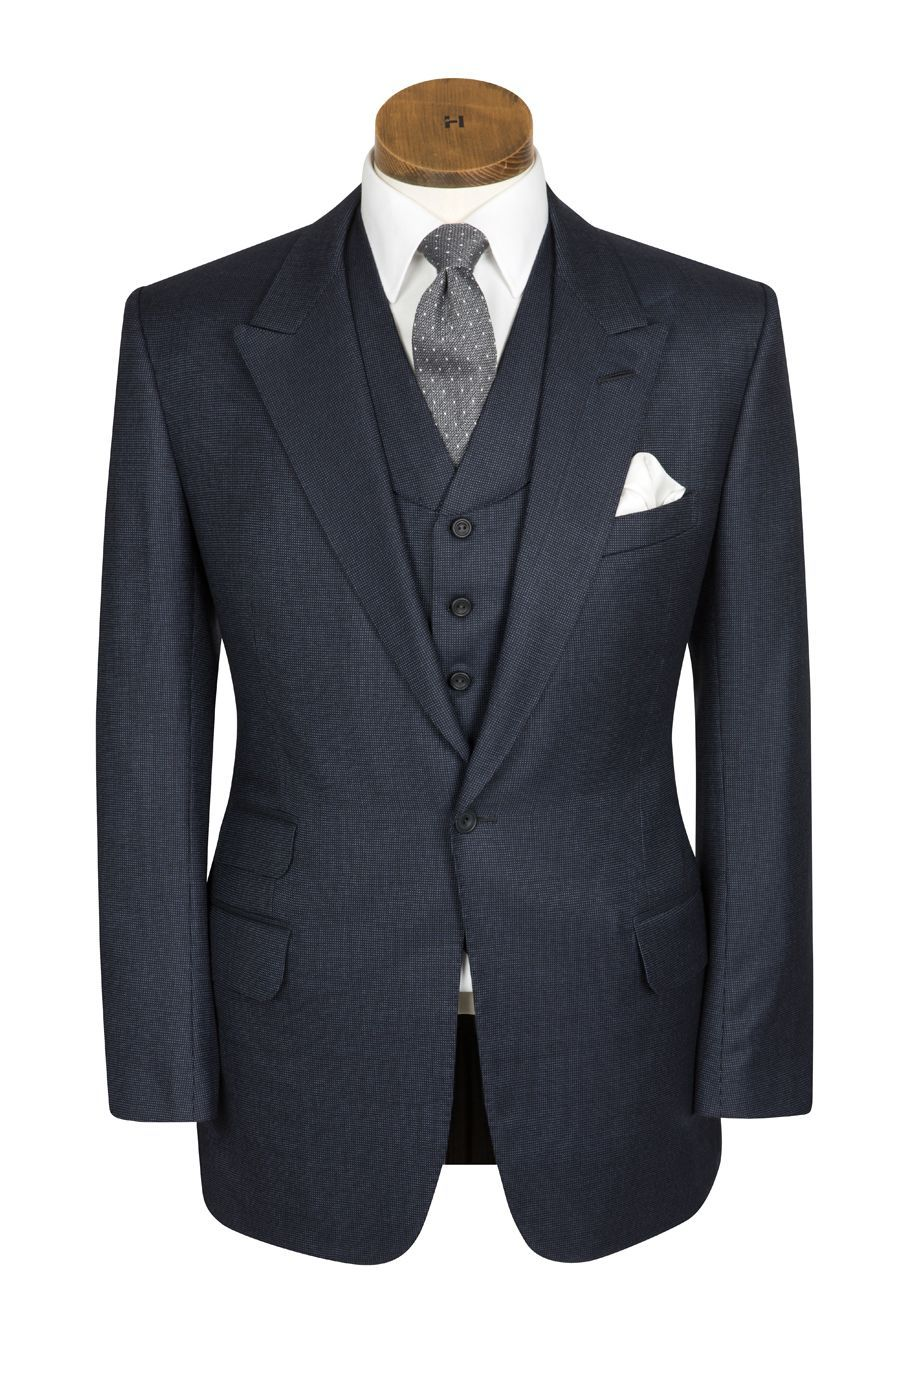F_M_suit jacket: (82, 204, 828, 1245)
F_pocket square: (596, 436, 696, 528)
F_tie: (396, 224, 508, 449)
